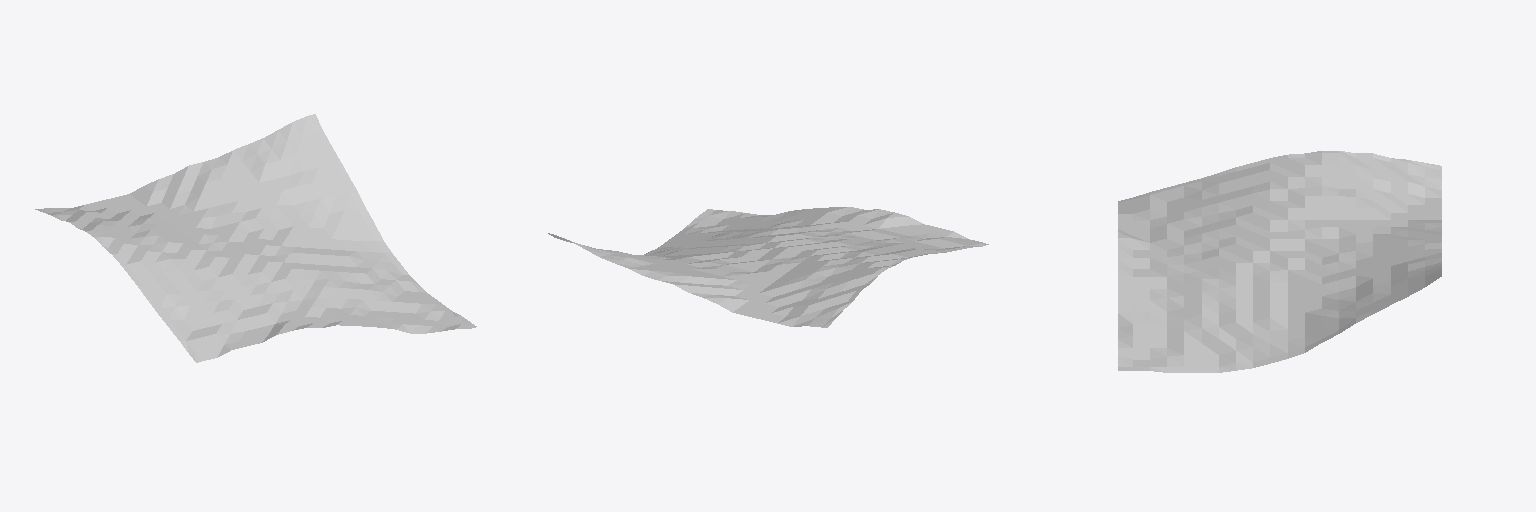
File: terrain_4_27.obj
The picture shows the model from 3 angles: view 1: azimuth 30°, elevation 25°; view 2: azimuth 150°, elevation 25°; view 3: azimuth 270°, elevation 25°; orthographic projection.
Parts seen in each view (by area): view 1: terrain_4_27_Plane.028; view 2: terrain_4_27_Plane.028; view 3: terrain_4_27_Plane.028.
Boxes of the visible parts, box(x1,y1,x2,y2) form: terrain_4_27_Plane.028: box(35, 114, 476, 362); terrain_4_27_Plane.028: box(548, 207, 988, 327); terrain_4_27_Plane.028: box(1118, 151, 1441, 372).
Bounding box in the file's own units: 32 × 10.54 × 32.